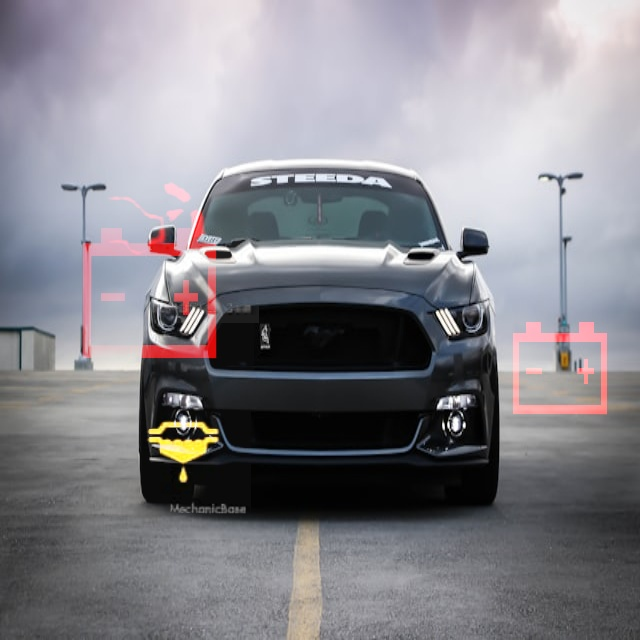symbol: (41, 184, 254, 397), (54, 118, 259, 323), (483, 291, 634, 442), (117, 386, 251, 520)
